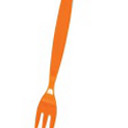Fork: (33, 2, 98, 128)
